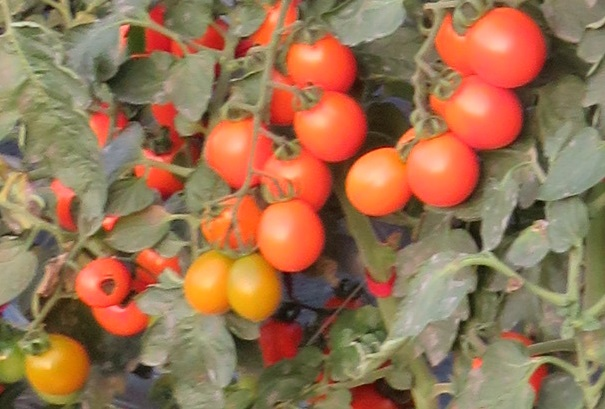orange: (433, 78, 535, 153), (469, 7, 552, 90), (412, 128, 484, 212), (258, 196, 331, 275), (297, 89, 368, 162), (341, 144, 409, 220), (208, 115, 272, 193), (284, 33, 360, 94), (260, 146, 331, 210), (24, 334, 91, 392), (197, 194, 259, 253), (229, 254, 281, 323), (184, 247, 231, 317), (75, 257, 130, 308)
